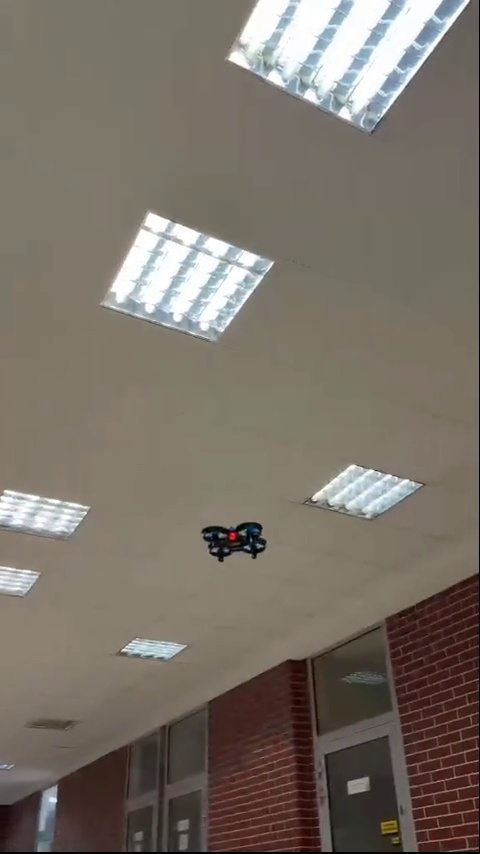drone: (206, 521, 265, 565)
